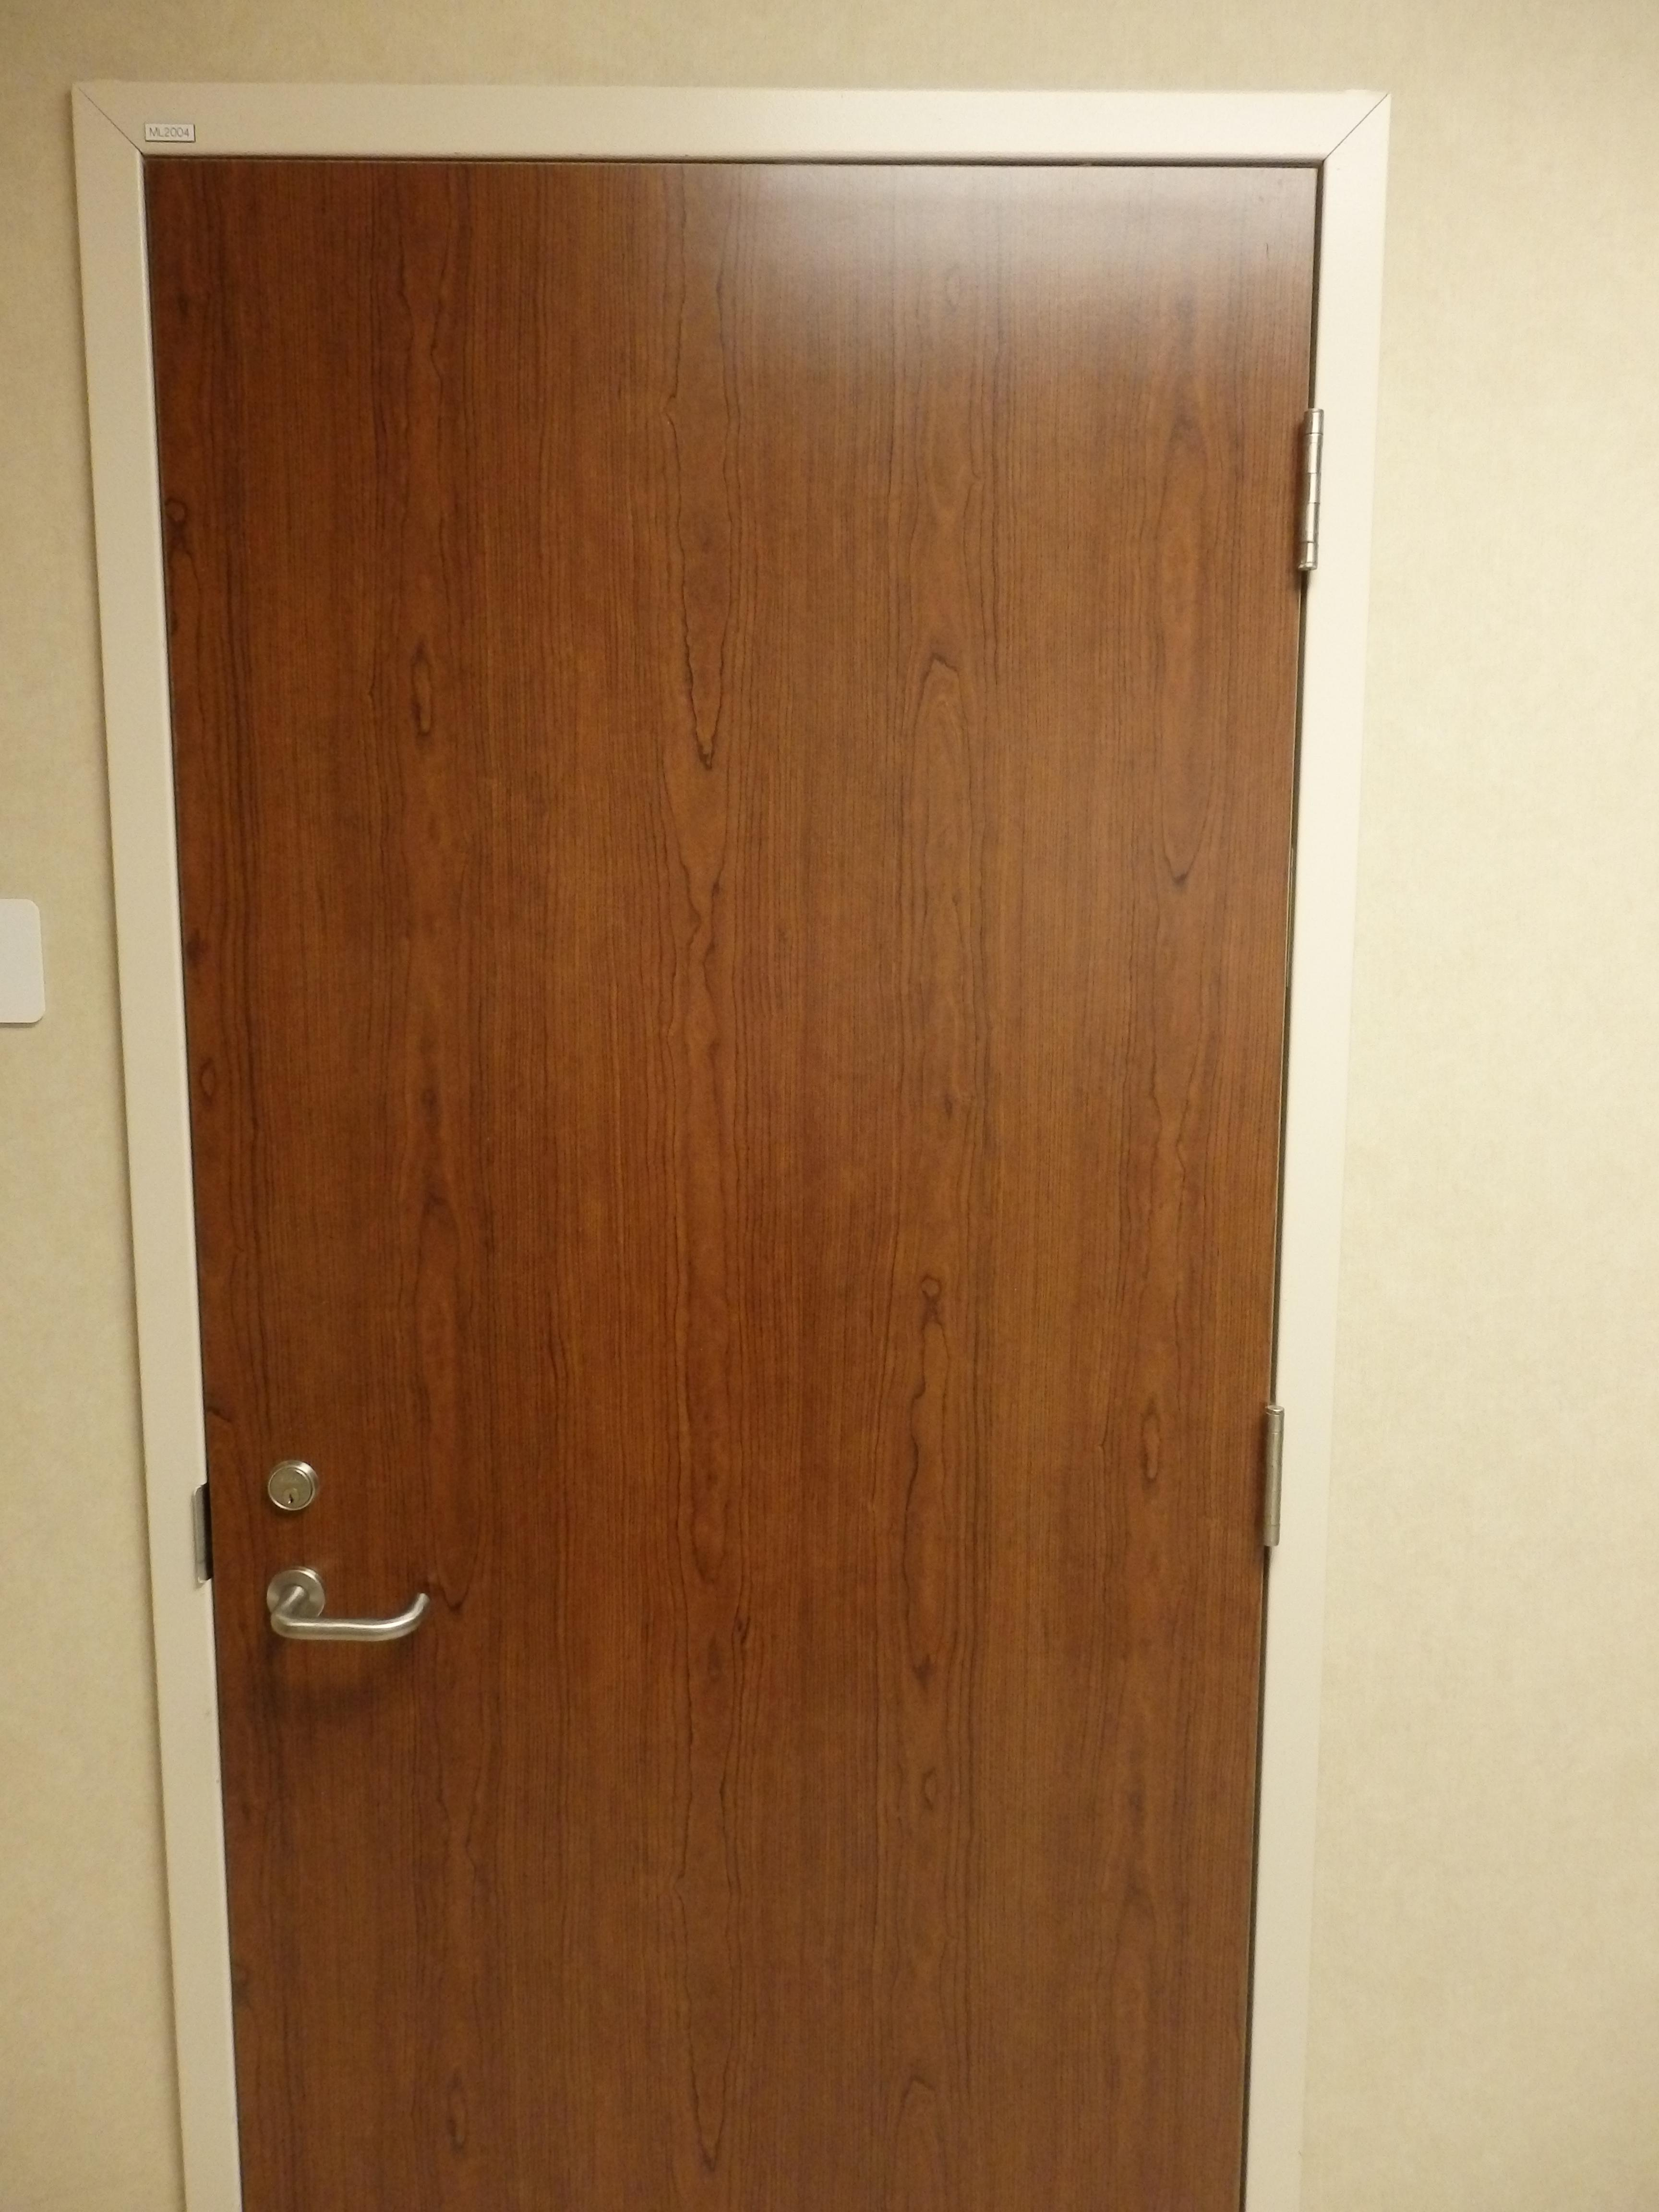door: (71, 82, 1398, 2212)
